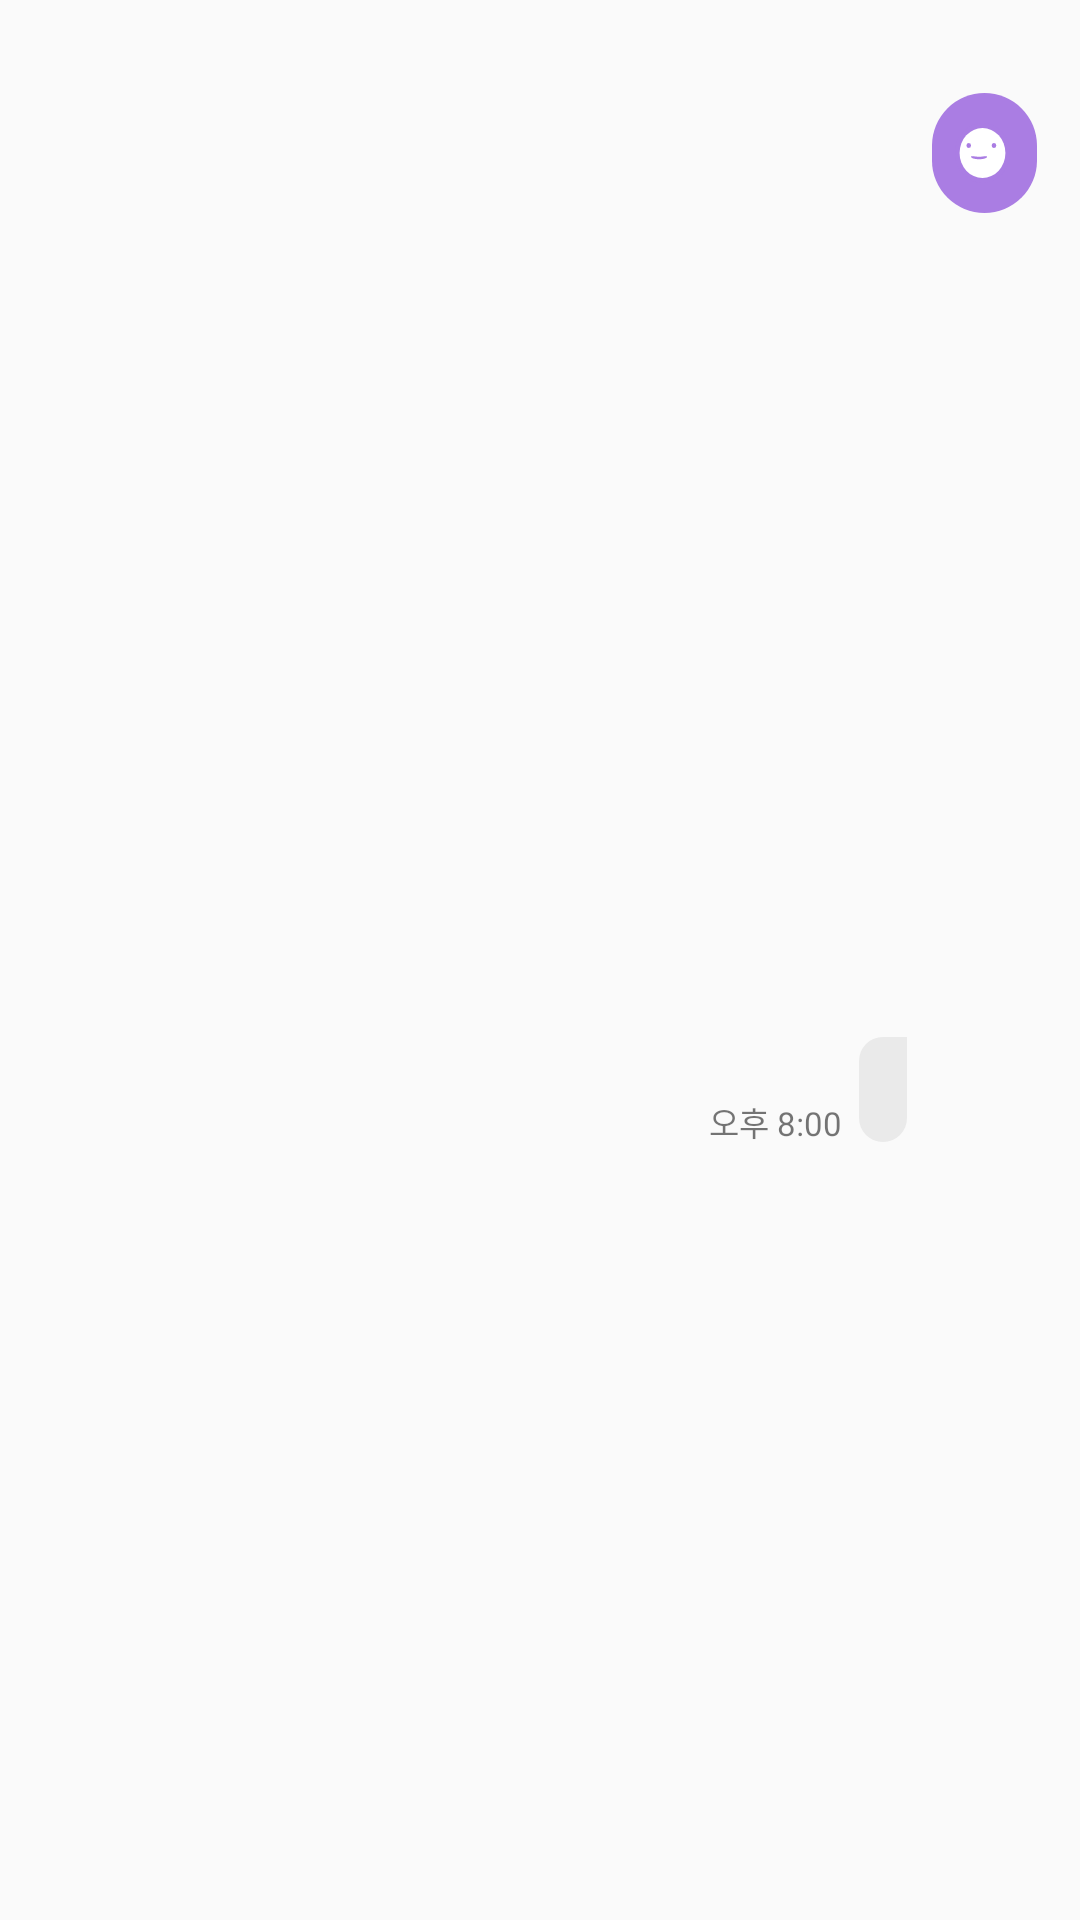

Screen size 1080w x 1920h. Icon name, then its center in pixels as (x,y):
user: (982,153)
